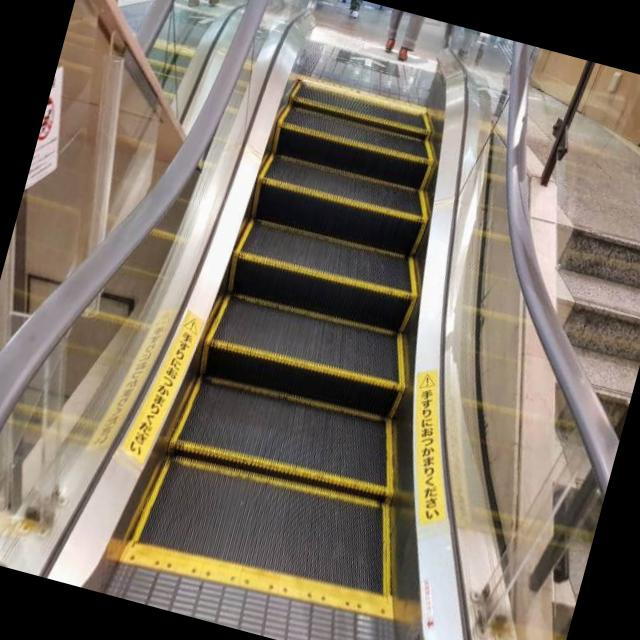escalator: (0, 0, 621, 640)
